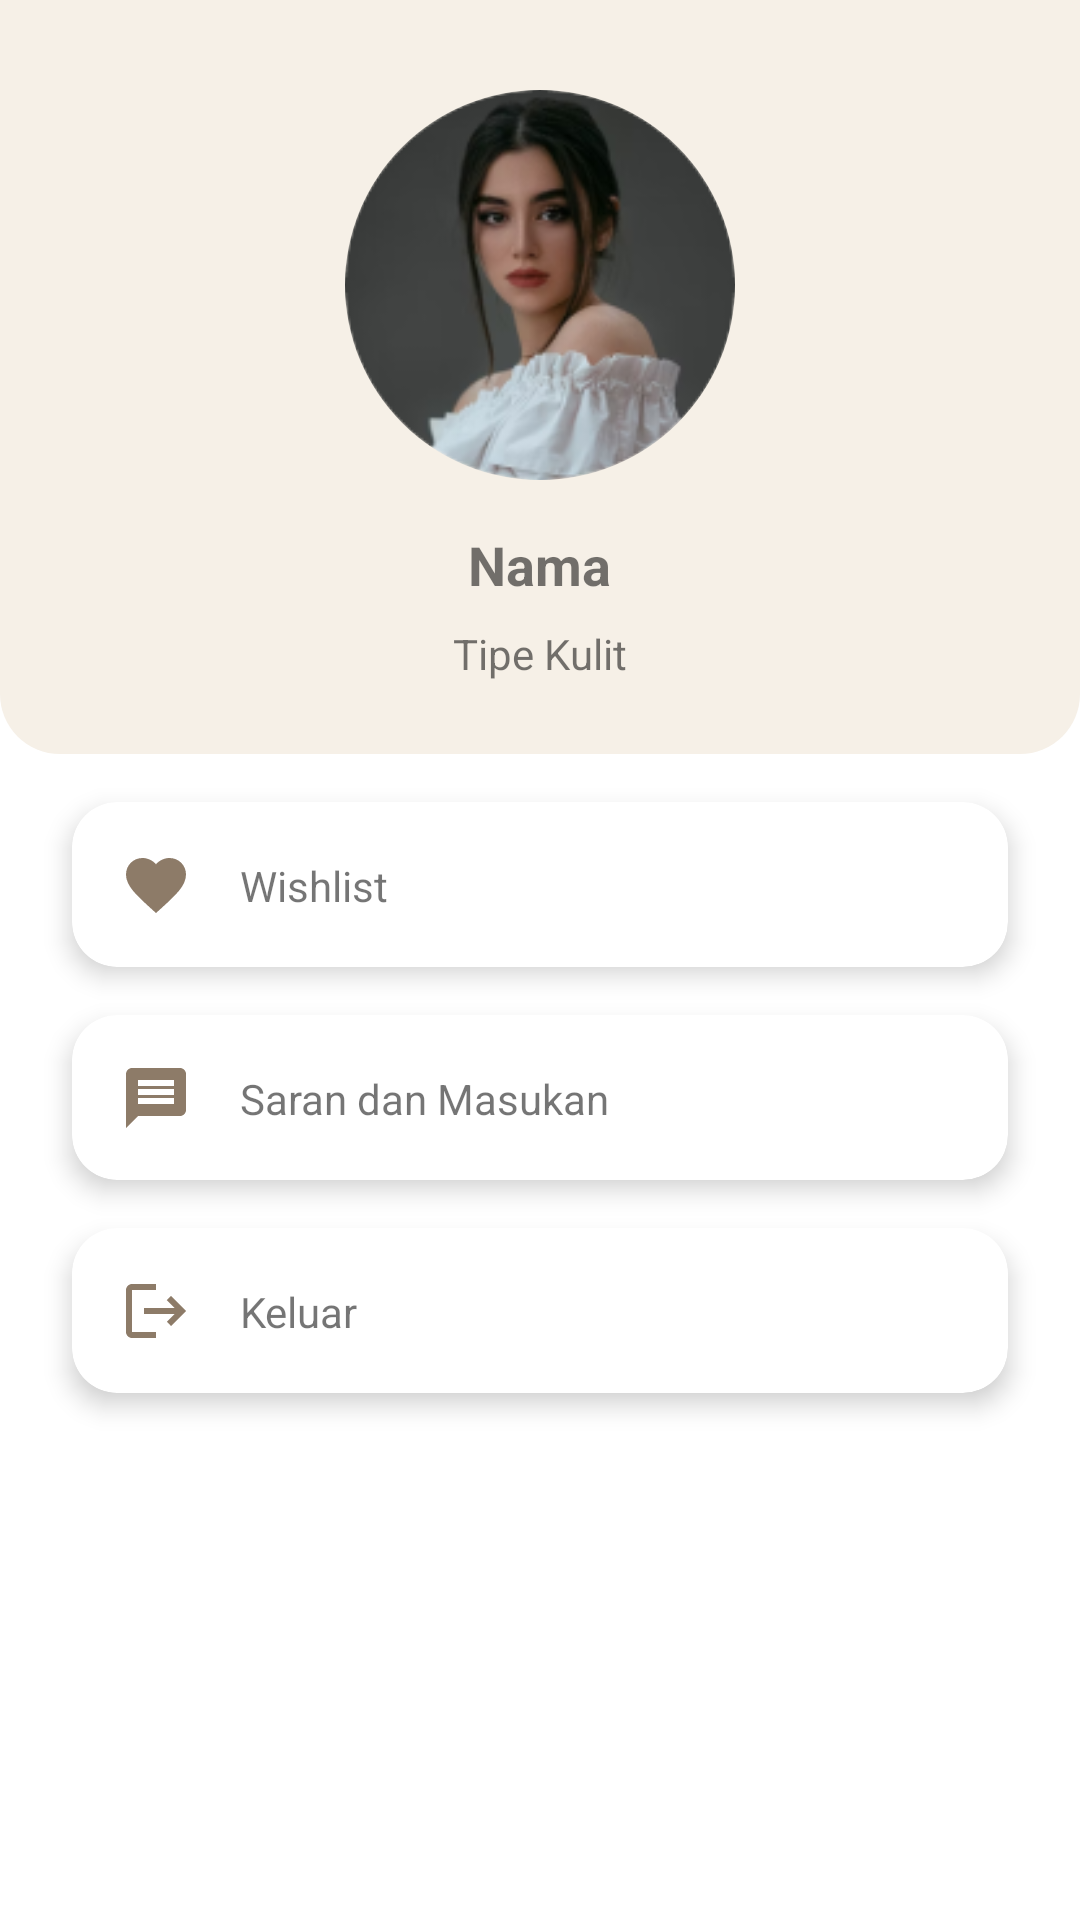

Icon click points for this 1080px x 1920px phone screenshot, format point (x, y):
favorite: point (156, 885)
message: point (156, 1098)
